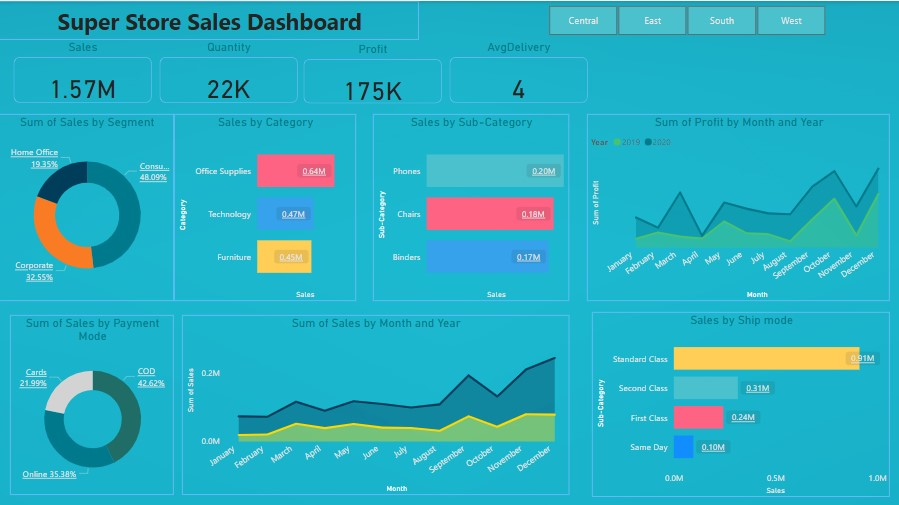

This screenshot's page, from the dashboard's own definition file:
{"tool":"powerbi","page":{"name":"Page 1","canvas":[1280,720],"ordinal":0},"visuals":[{"type":"barChart","title":"Sales by Category","fields":{"Category":["SuperStore_Sales_Dataset1 (2).Category"],"Y":["Sum(SuperStore_Sales_Dataset1 (2).Sales)"]},"box":[248,160.2,258,265],"z":0},{"type":"barChart","title":"Sales by Sub-Category","fields":{"Category":["SuperStore_Sales_Dataset1 (2).Sub-Category"],"Y":["Sum(SuperStore_Sales_Dataset1 (2).Sales)"]},"box":[530.1,160.2,277.8,265],"z":1000},{"type":"barChart","title":"Sales by Ship mode","fields":{"Category":["SuperStore_Sales_Dataset1 (2).Ship Mode"],"Y":["Sum(SuperStore_Sales_Dataset1 (2).Sales)"]},"box":[840.5,440.8,422.4,262.2],"z":2000},{"type":"stackedAreaChart","fields":{"Category":["SuperStore_Sales_Dataset1 (2).Order_date.Variation.Date Hierarchy.Month","SuperStore_Sales_Dataset1 (2).Order_date.Variation.Date Hierarchy.Day"],"Series":["SuperStore_Sales_Dataset1 (2).Order_date.Variation.Date Hierarchy.Year"],"Y":["Sum(SuperStore_Sales_Dataset1 (2).Sales)"]},"box":[259.4,445,548.5,255.1],"z":3000},{"type":"stackedAreaChart","fields":{"Category":["SuperStore_Sales_Dataset1 (2).Order_date.Variation.Date Hierarchy.Month","SuperStore_Sales_Dataset1 (2).Order_date.Variation.Date Hierarchy.Day"],"Series":["SuperStore_Sales_Dataset1 (2).Order_date.Variation.Date Hierarchy.Year"],"Y":["Sum(SuperStore_Sales_Dataset1 (2).Profit)"]},"box":[833.4,160.2,429.4,265],"z":4000},{"type":"donutChart","fields":{"Y":["Sum(SuperStore_Sales_Dataset1 (2).Sales)"],"Category":["SuperStore_Sales_Dataset1 (2).Segment"]},"box":[0,160.2,248,265],"z":6000},{"type":"donutChart","fields":{"Y":["Sum(SuperStore_Sales_Dataset1 (2).Sales)"],"Category":["SuperStore_Sales_Dataset1 (2).Payment Mode"]},"box":[15.6,445,232.4,255.1],"z":7000},{"type":"slicer","fields":{"Values":["SuperStore_Sales_Dataset1 (2).Region"]},"box":[754,0,440.8,55.3],"z":8000},{"type":"textbox","box":[0,0,595.3,55.3],"z":9000},{"type":"cardVisual","title":"Sales","fields":{"Data":["Sum(SuperStore_Sales_Dataset1 (2).Sales)"]},"box":[15.6,55.3,206.9,95],"z":10000},{"type":"cardVisual","title":"Quantity","fields":{"Data":["Sum(SuperStore_Sales_Dataset1 (2).Quantity)"]},"box":[222.5,55.3,206.9,95],"z":11000},{"type":"cardVisual","title":"Profit","fields":{"Data":["Sum(SuperStore_Sales_Dataset1 (2).Profit)"]},"box":[426.6,58.1,206.9,92.1],"z":12000},{"type":"cardVisual","title":"AvgDelivery","fields":{"Data":["Avg(SuperStore_Sales_Dataset1.avgDelivery2)"]},"box":[633.5,55.3,206.9,95],"z":13000}]}

Visuals, with their boxes in screenshot pixels (x1, y1, x2, y2), scaled from the page's 1280x720 canvas onto the 899x505 screenshot:
"Sales by Category" barChart: l=174, t=112, r=355, b=298
"Sales by Sub-Category" barChart: l=372, t=112, r=567, b=298
"Sales by Ship mode" barChart: l=590, t=309, r=887, b=493
stackedAreaChart - SuperStore_Sales_Dataset1 (2).Order_date.Variation.Date Hierarchy.Month x SuperStore_Sales_Dataset1 (2).Order_date.Variation.Date Hierarchy.Day: l=182, t=312, r=567, b=491
stackedAreaChart - SuperStore_Sales_Dataset1 (2).Order_date.Variation.Date Hierarchy.Month x SuperStore_Sales_Dataset1 (2).Order_date.Variation.Date Hierarchy.Day: l=585, t=112, r=887, b=298
donutChart - Sum(SuperStore_Sales_Dataset1 (2).Sales) x SuperStore_Sales_Dataset1 (2).Segment: l=0, t=112, r=174, b=298
donutChart - Sum(SuperStore_Sales_Dataset1 (2).Sales) x SuperStore_Sales_Dataset1 (2).Payment Mode: l=11, t=312, r=174, b=491
slicer - SuperStore_Sales_Dataset1 (2).Region: l=530, t=0, r=839, b=39
textbox: l=0, t=0, r=418, b=39
"Sales" cardVisual: l=11, t=39, r=156, b=105
"Quantity" cardVisual: l=156, t=39, r=302, b=105
"Profit" cardVisual: l=300, t=41, r=445, b=105
"AvgDelivery" cardVisual: l=445, t=39, r=590, b=105
